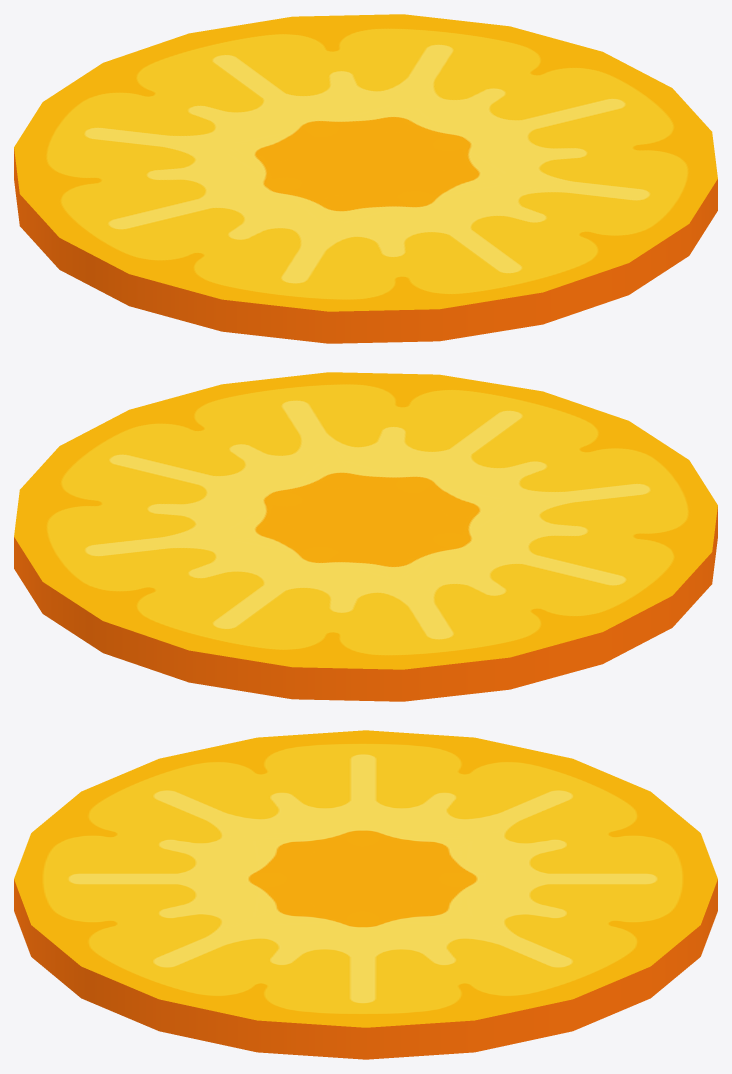
Rendered from Pineapple_Slice_Pineapple_0.glb.
The picture shows the model from 3 angles, top to bottom: view 1: azimuth 30°, elevation 25°; view 2: azimuth 150°, elevation 25°; view 3: azimuth 270°, elevation 25°; orthographic projection.
Parts seen in each view (by area): view 1: Pineapple_Slice_Pineapple_0; view 2: Pineapple_Slice_Pineapple_0; view 3: Pineapple_Slice_Pineapple_0.
Part boxes in pixels (<box>): Pineapple_Slice_Pineapple_0: <box>14,14,717,343</box>; Pineapple_Slice_Pineapple_0: <box>14,372,717,701</box>; Pineapple_Slice_Pineapple_0: <box>14,730,717,1059</box>.
Bounding box in the file's own units: 0.2 × 0.01 × 0.2.
Materials: 1 (1 with a texture image).
